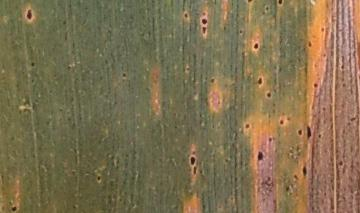tarspot: (22, 5, 35, 22), (254, 148, 268, 163), (304, 122, 313, 143), (91, 172, 106, 184), (241, 119, 254, 132), (250, 41, 263, 53), (187, 154, 199, 167), (335, 157, 347, 170), (294, 126, 306, 139), (299, 161, 308, 178), (264, 134, 276, 146), (304, 37, 315, 50), (8, 202, 20, 213), (254, 75, 265, 87), (309, 79, 321, 90), (275, 116, 287, 127), (282, 183, 294, 194), (261, 3, 272, 15), (289, 172, 301, 183), (199, 26, 210, 37), (58, 17, 70, 27), (275, 1, 288, 10), (198, 9, 209, 19), (264, 89, 274, 100), (189, 167, 201, 176), (320, 23, 329, 35), (26, 58, 36, 68), (206, 75, 217, 84), (181, 10, 189, 22), (199, 17, 209, 26), (314, 132, 326, 139), (119, 70, 128, 79), (245, 1, 257, 5)
